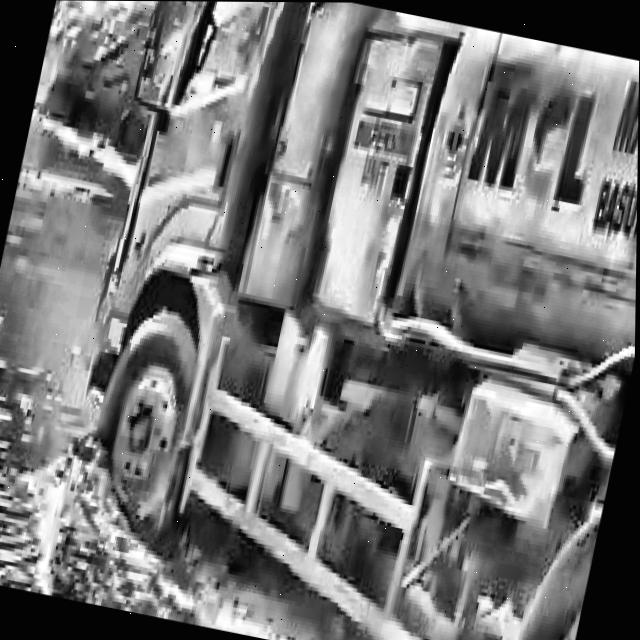dump_truck: (32, 0, 640, 640)
